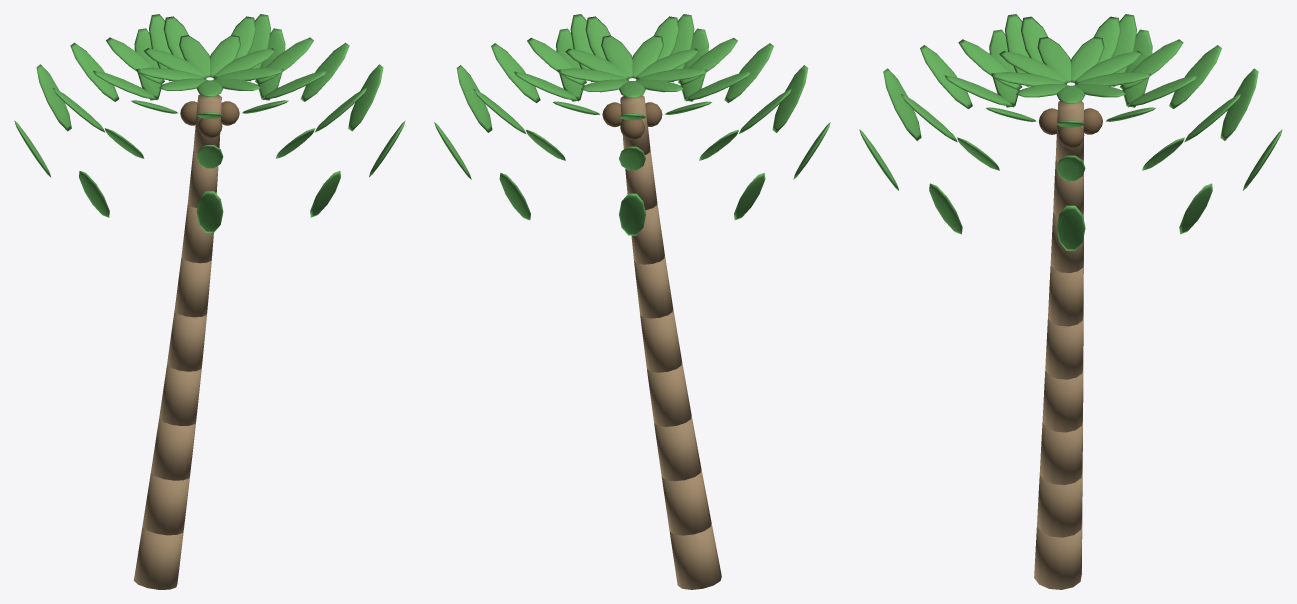
File: palmera.glb
The picture shows the model from 3 angles, left to right: view 1: azimuth 30°, elevation 25°; view 2: azimuth 150°, elevation 25°; view 3: azimuth 270°, elevation 25°; orthographic projection. The views are drawn at different scales.
Parts seen in each view (by area): view 1: hoja_0_0, tronco_0, coco_0; view 2: hoja_0_0, tronco_0, coco_0; view 3: hoja_0_0, tronco_0, coco_0.
Part boxes in pixels (<box>): hoja_0_0: <box>14,14,405,232</box>; tronco_0: <box>133,94,221,589</box>; coco_0: <box>180,101,239,138</box>; hoja_0_0: <box>434,14,830,235</box>; tronco_0: <box>620,95,721,589</box>; coco_0: <box>602,102,662,139</box>; hoja_0_0: <box>859,14,1282,250</box>; tronco_0: <box>1034,100,1083,589</box>; coco_0: <box>1038,108,1102,148</box>.
Bounding box in the file's own units: 3.45 × 4.97 × 3.5.
